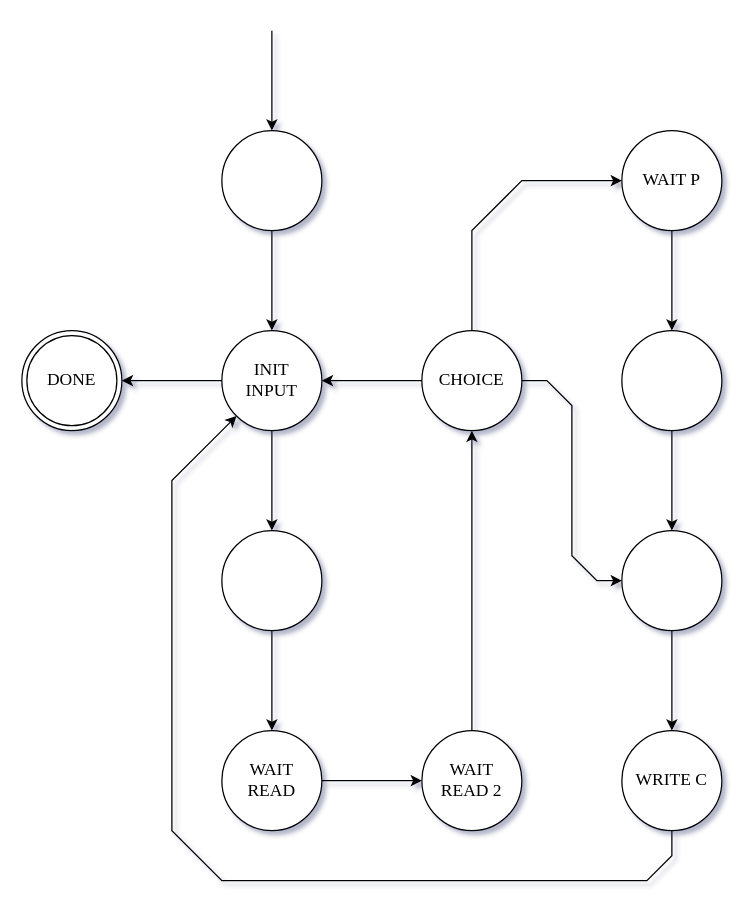
Image size: 751x920. Some labels were removed from this diagram. The shapes that lost their labels are listed below. From the top down, each one's centre as x and y in pixels, then its label:
At (x=271, y=180): "INIT".
At (x=671, y=380): "WRITE P".
At (x=271, y=580): "READ".
At (x=671, y=580): "WAIT EN".
